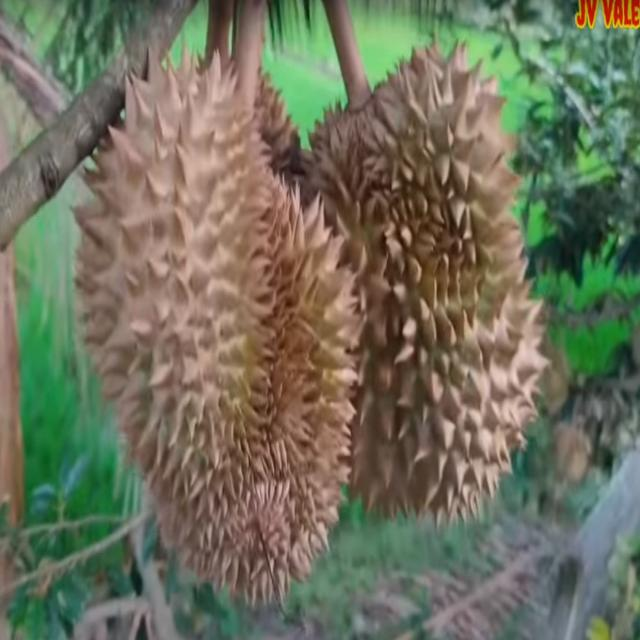mature: (71, 49, 358, 604), (293, 42, 549, 547)
